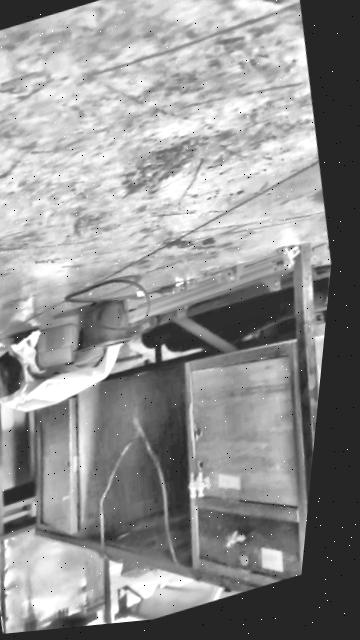pot: (63, 293, 141, 360)
